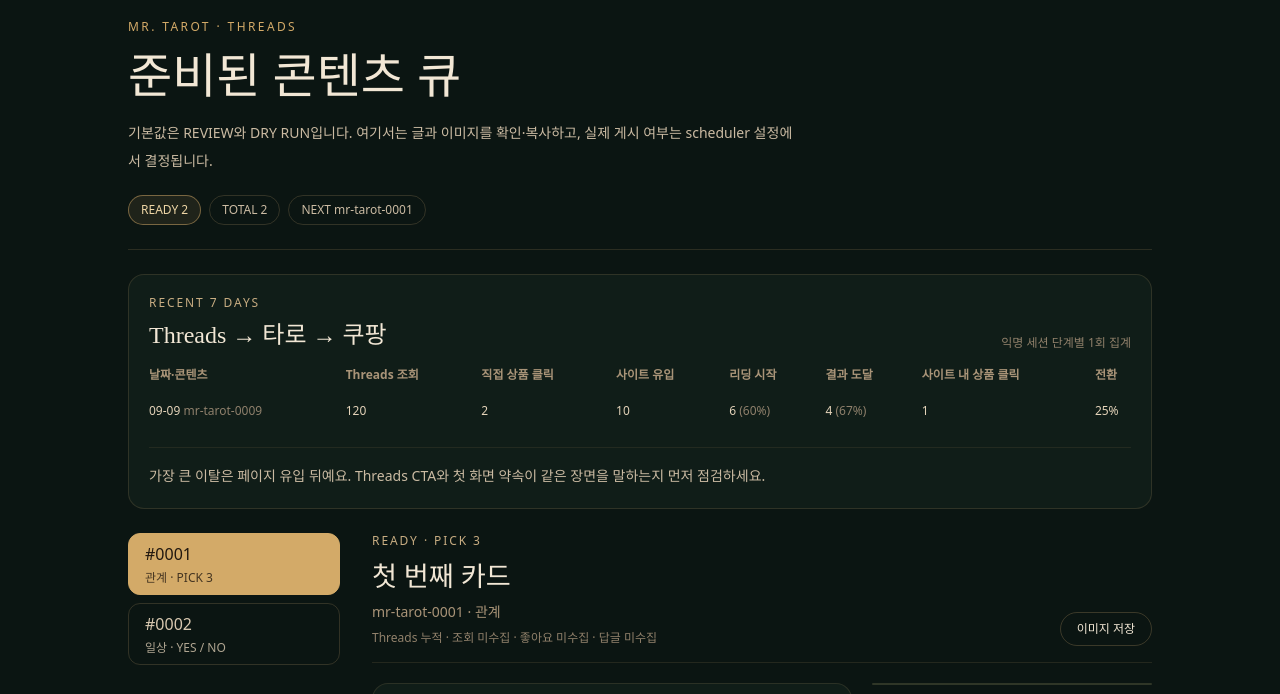
it: ThreadsContentClient › shows queue status and changes the selected content
The image size is (1280, 694).
Expected: the text "READY 2" is shown, [128,195,201,225]
Expected: the heading "Threads → 타로 → 쿠팡" is shown, [149,319,387,351]
Click the button "#0002 일상 · YES / NO" at (234, 634), box [128,603,340,665]
(page scrolled)
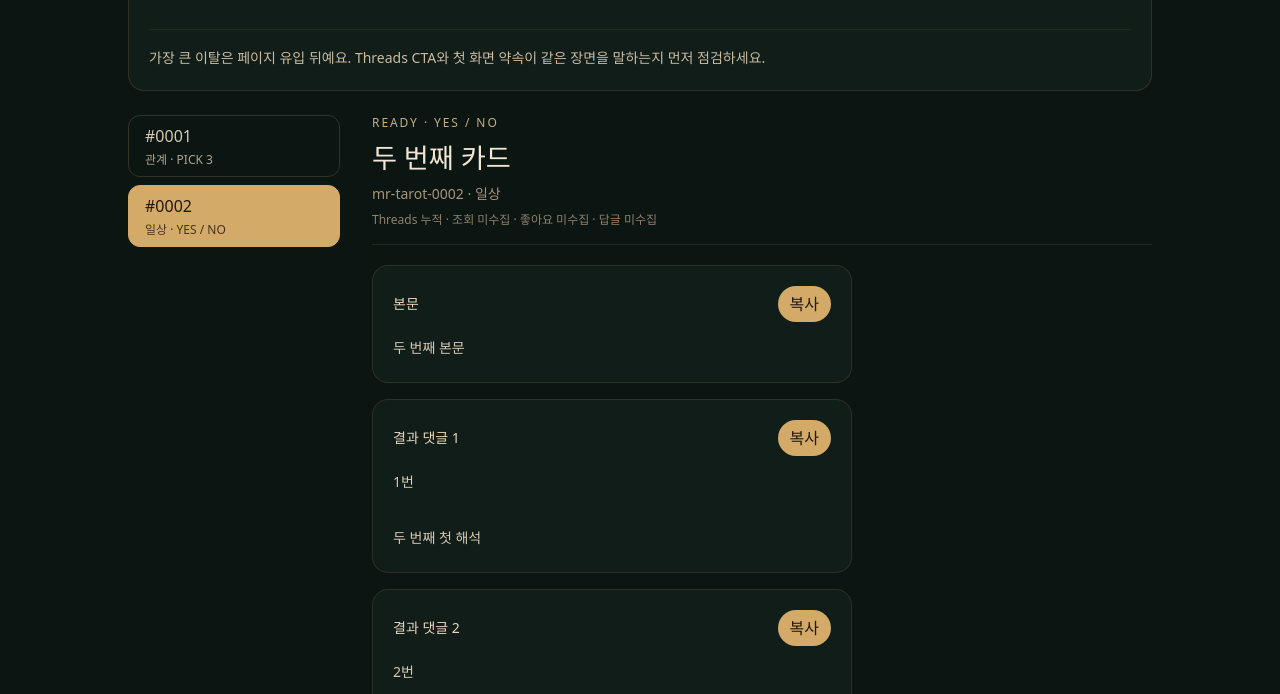
Now the text "두 번째 본문" is shown, box [393,338,465,357]
